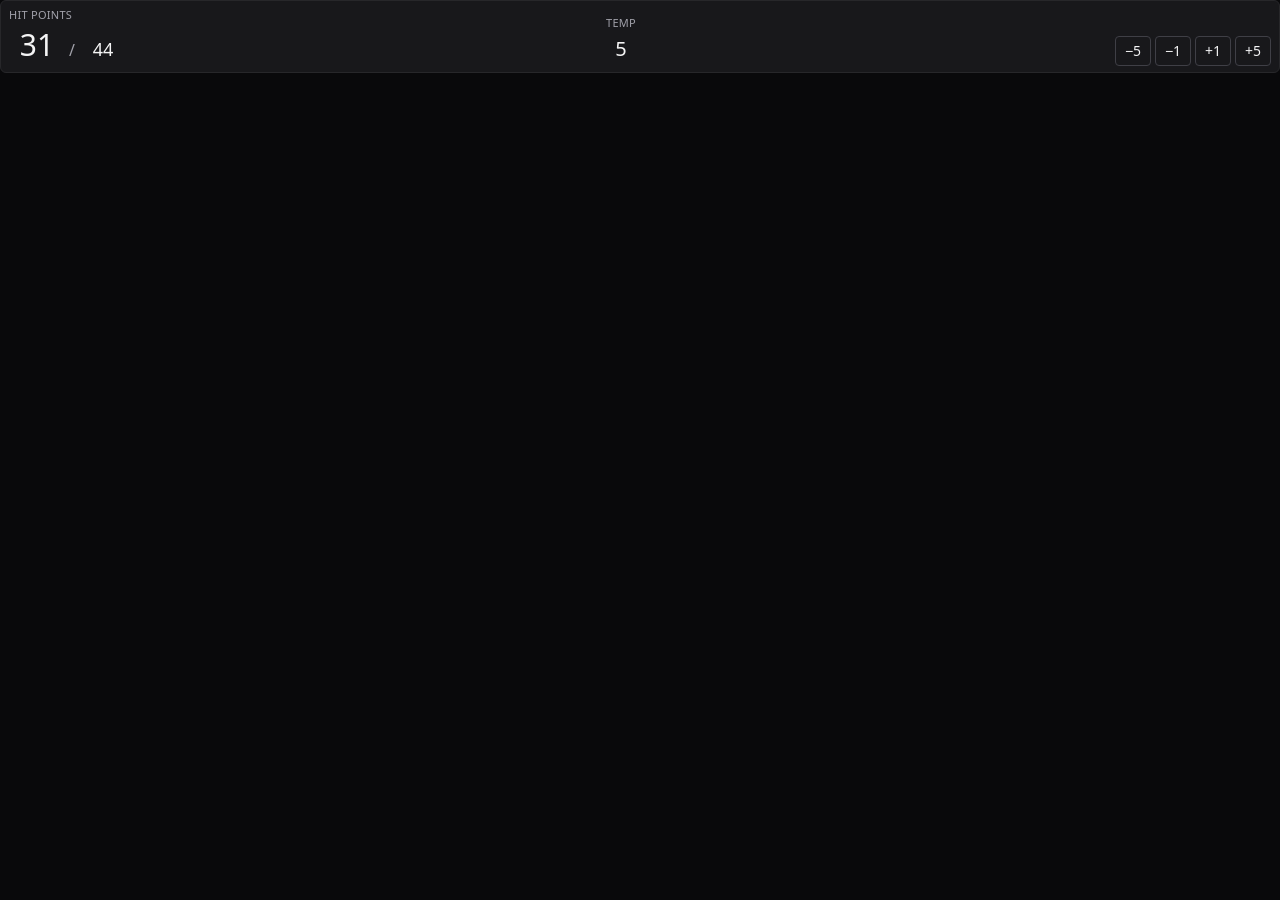
Test: HpBlock › damage comes off temp hp first
The image size is (1280, 900).
Step 1. Click the button "−5" → (1133, 50), box [1115,36,1151,66]
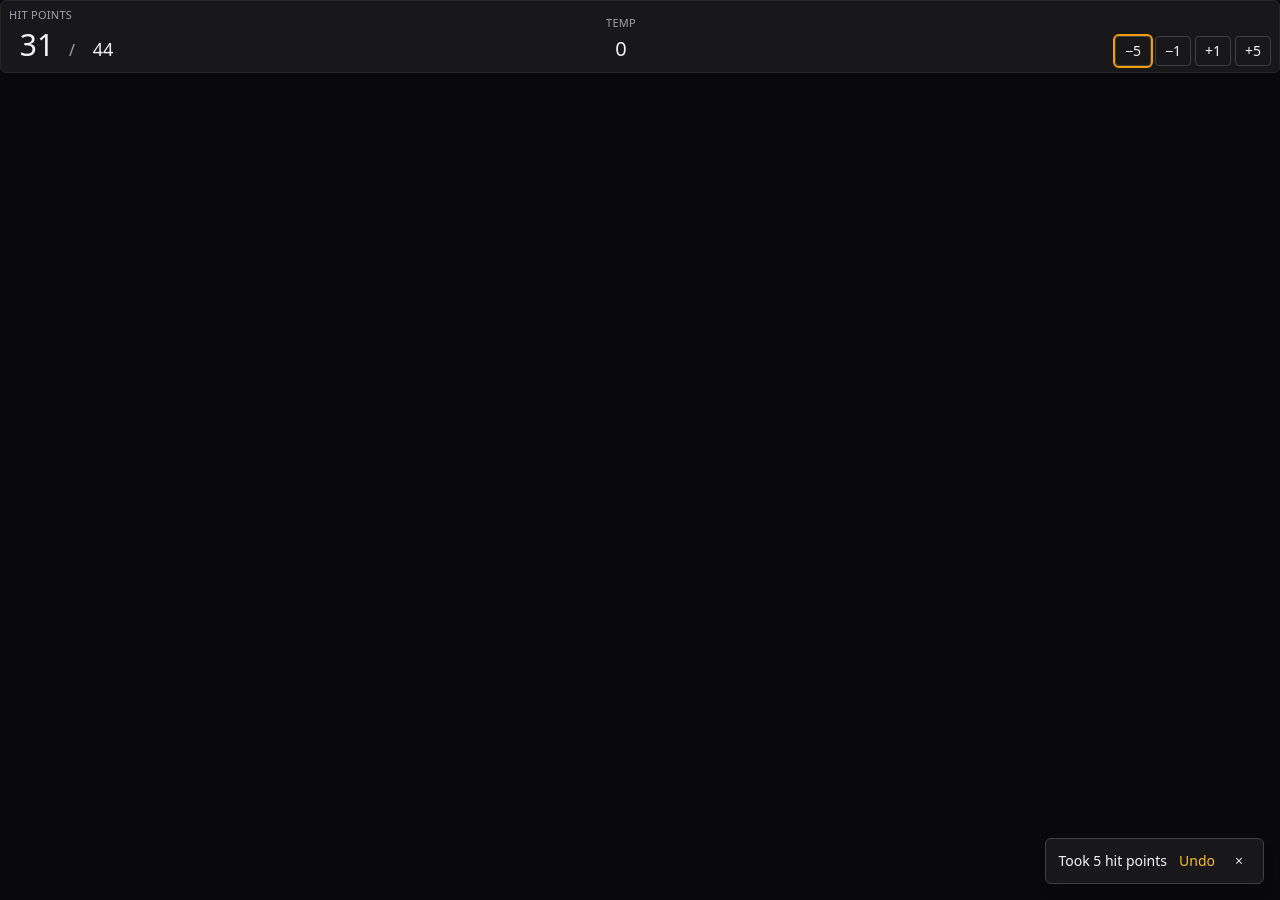
Expected: the field named "Current hit points" holds "31", [9,24,65,66]
Result: the field named "Temporary hit points" holds "0" at [597,32,645,66]
Step 2. Click the button "−5" → (1133, 50), box [1115,36,1151,66]
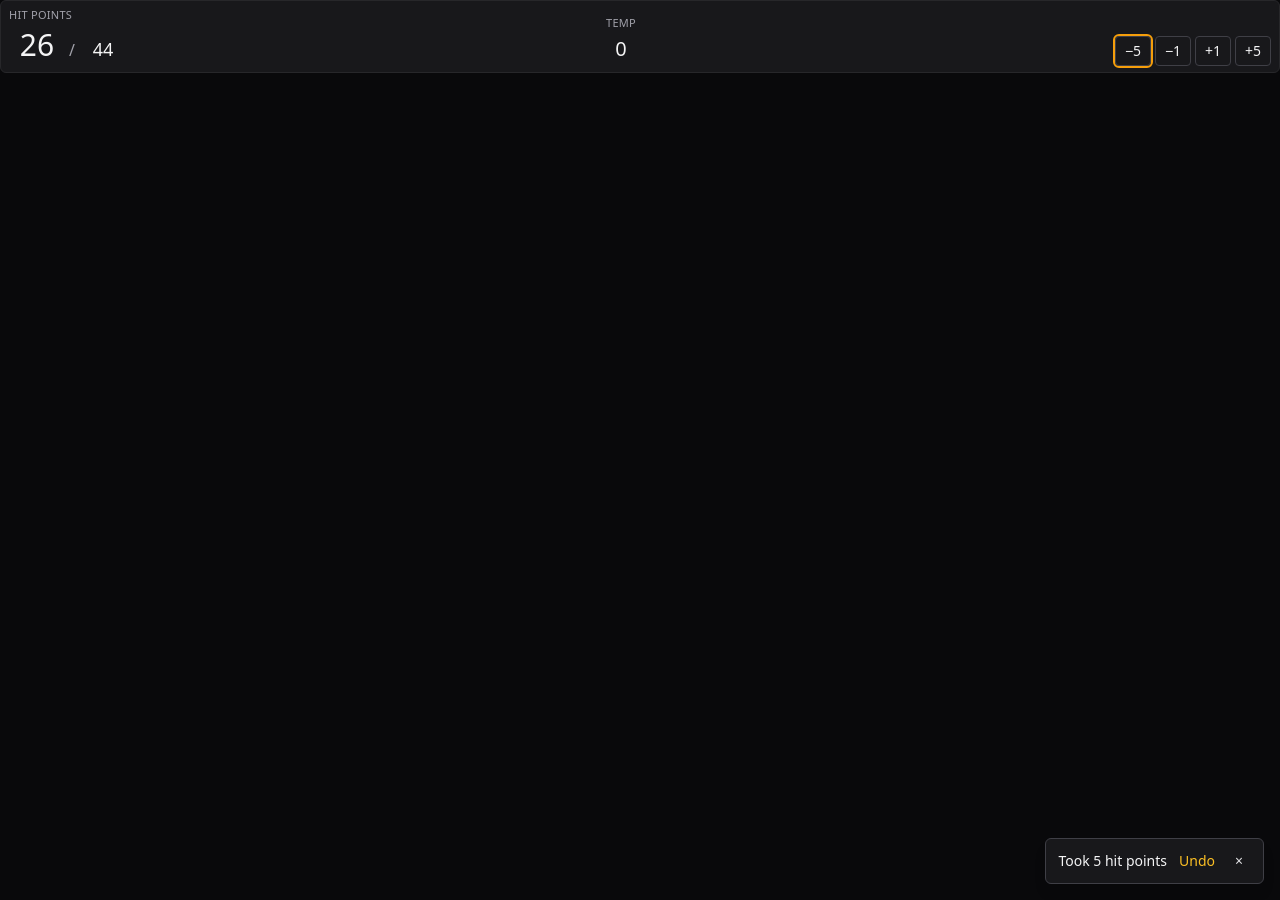
Result: the field named "Current hit points" holds "26" at [9,24,65,66]
